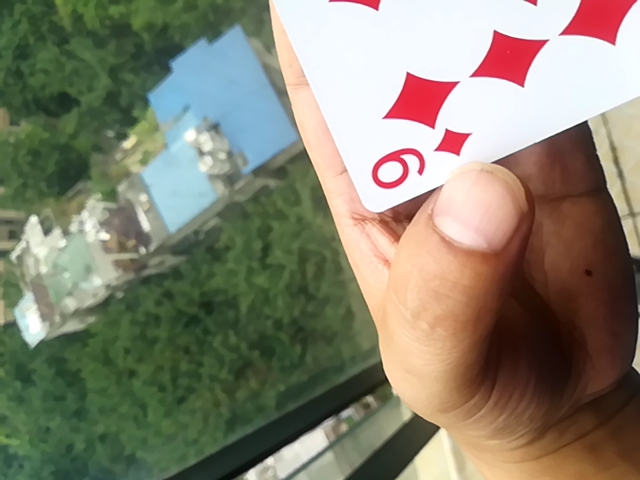fk 9: (257, 0, 640, 220)
